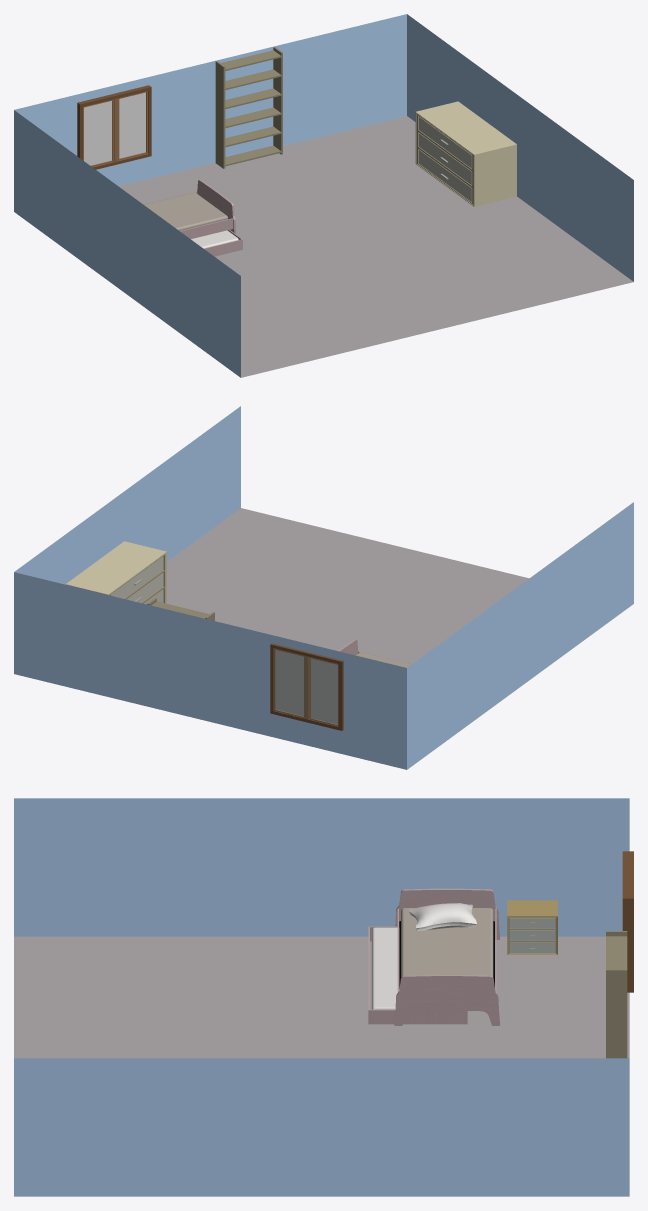
File: vintage-bed.gltf
3 renders of one model, top to bottom at view 1: azimuth 30°, elevation 25°; view 2: azimuth 150°, elevation 25°; view 3: azimuth 270°, elevation 25°, orthographic. The views are drawn at different scales.
Visible parts, largest first — view 1: Plane, Plane.001, Cube.004, Shelves1, Cube.015, Cube.008, bed-mattress, bed-structure, Cube.012, Cube.016, Cube.007; view 2: Plane, Plane.001, Cube.013, Cube.004, Cube.012, Cube.008, Cube.017; view 3: Plane, Plane.001, bed-structure, bed-mattress, Shelves1, divan-mattress, divan, pillow, Cube.002, Cube.012, Cube.
Boxes of the visible parts, <box> form: Plane: <box>14,14,633,377</box>; Plane.001: <box>119,116,633,377</box>; Cube.004: <box>415,101,516,206</box>; Shelves1: <box>215,47,282,168</box>; Cube.015: <box>84,92,145,165</box>; Cube.008: <box>419,117,471,201</box>; bed-mattress: <box>144,192,227,230</box>; bed-structure: <box>154,179,235,238</box>; Cube.012: <box>77,85,151,169</box>; Cube.016: <box>83,91,148,167</box>; Cube.007: <box>417,114,473,204</box>; Plane: <box>14,406,633,769</box>; Plane.001: <box>167,508,528,664</box>; Cube.013: <box>276,650,337,724</box>; Cube.004: <box>65,541,166,603</box>; Cube.012: <box>270,643,343,730</box>; Cube.008: <box>111,557,163,604</box>; Cube.017: <box>273,648,338,726</box>; Plane: <box>14,798,629,1196</box>; Plane.001: <box>14,936,629,1058</box>; bed-structure: <box>394,888,499,1025</box>; bed-mattress: <box>401,908,493,977</box>; Shelves1: <box>606,931,627,1058</box>; divan-mattress: <box>371,927,399,1009</box>; divan: <box>368,926,467,1024</box>; pillow: <box>409,903,476,930</box>; Cube.002: <box>510,918,555,952</box>; Cube.012: <box>622,851,633,992</box>; Cube: <box>507,900,557,954</box>.
Bounding box in the file's own units: 34.02 × 8.45 × 34.26.
26 materials, 2 textured.
